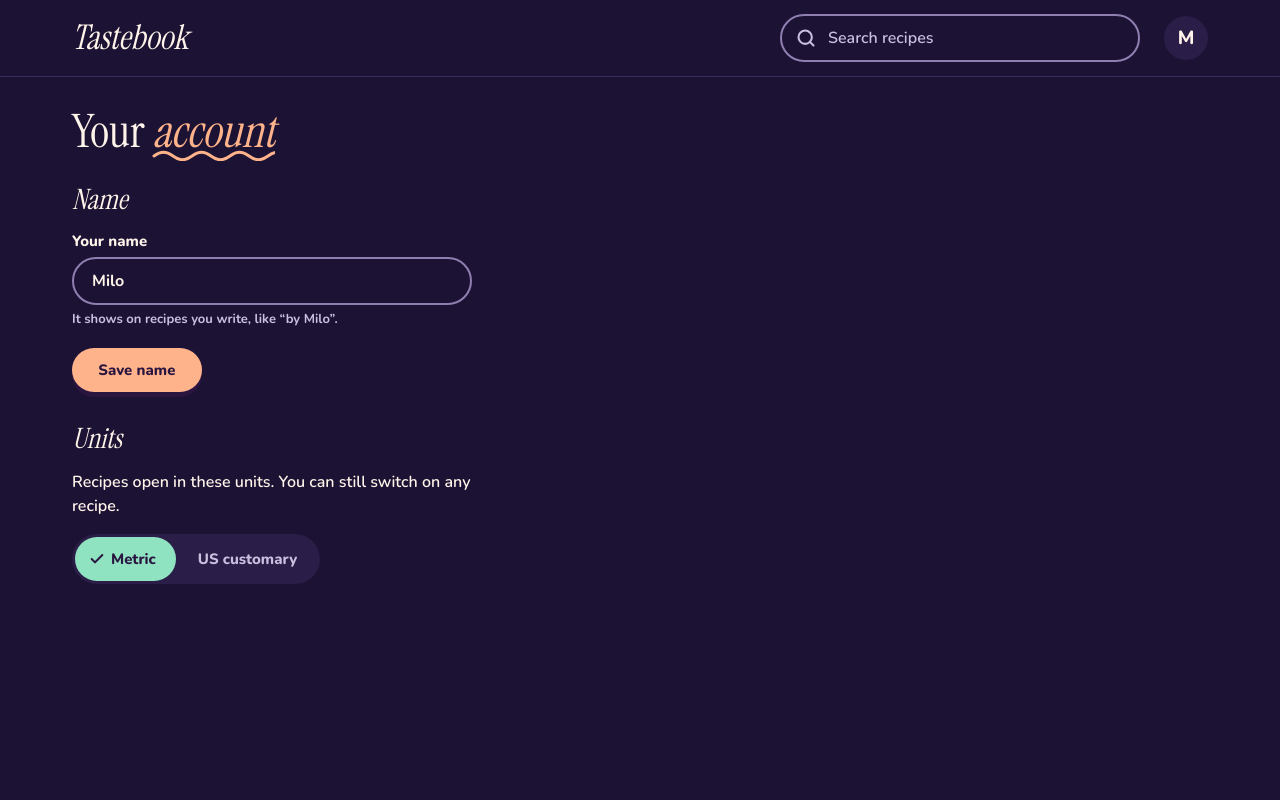
Scenario: AccountPage › says the name couldn't be saved and keeps it when the server fails
Replace the text in the field labelled "Your name" with "Sam Jones" at (272, 281), box [72, 257, 472, 305]
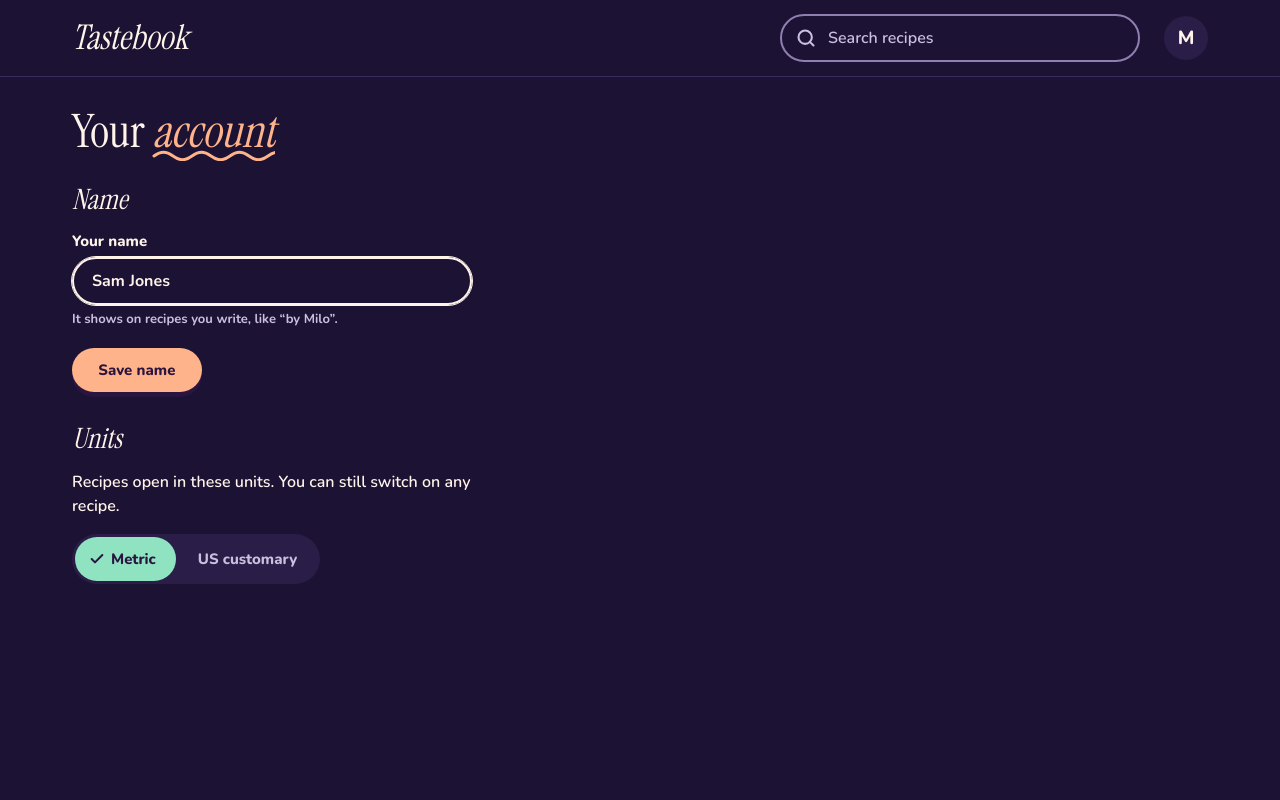
Click the button "Save name" at (137, 370), box [72, 348, 202, 392]
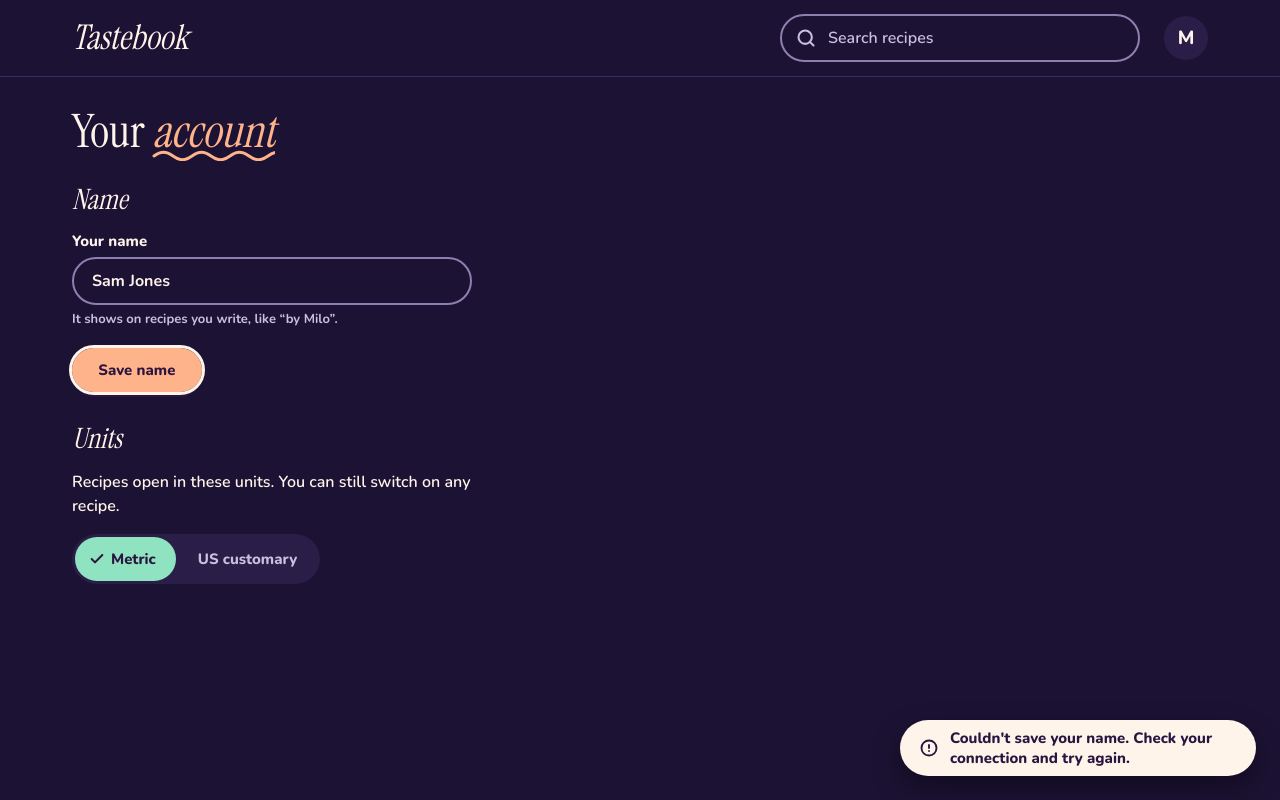
expect the button named "Account for Milo" is shown: met, box [1164, 16, 1208, 60]
expect the text "Couldn't save your name. Check your connection and try again." is shown: met, box [950, 728, 1250, 768]
